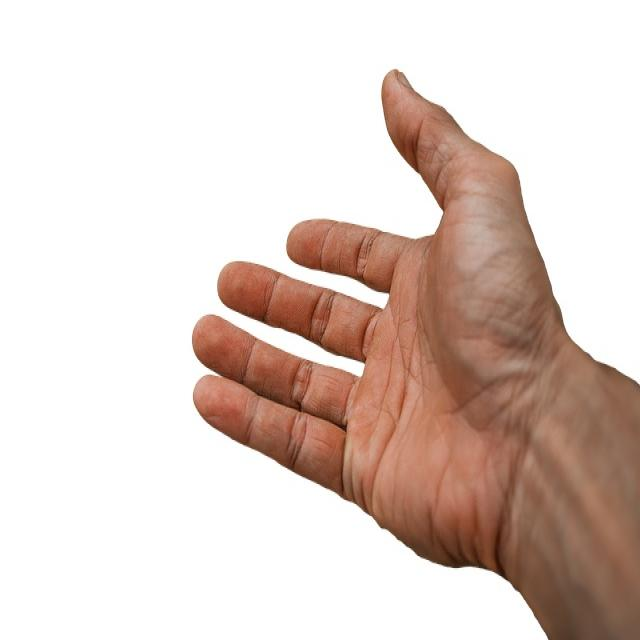no-gloves: (191, 67, 588, 593)
